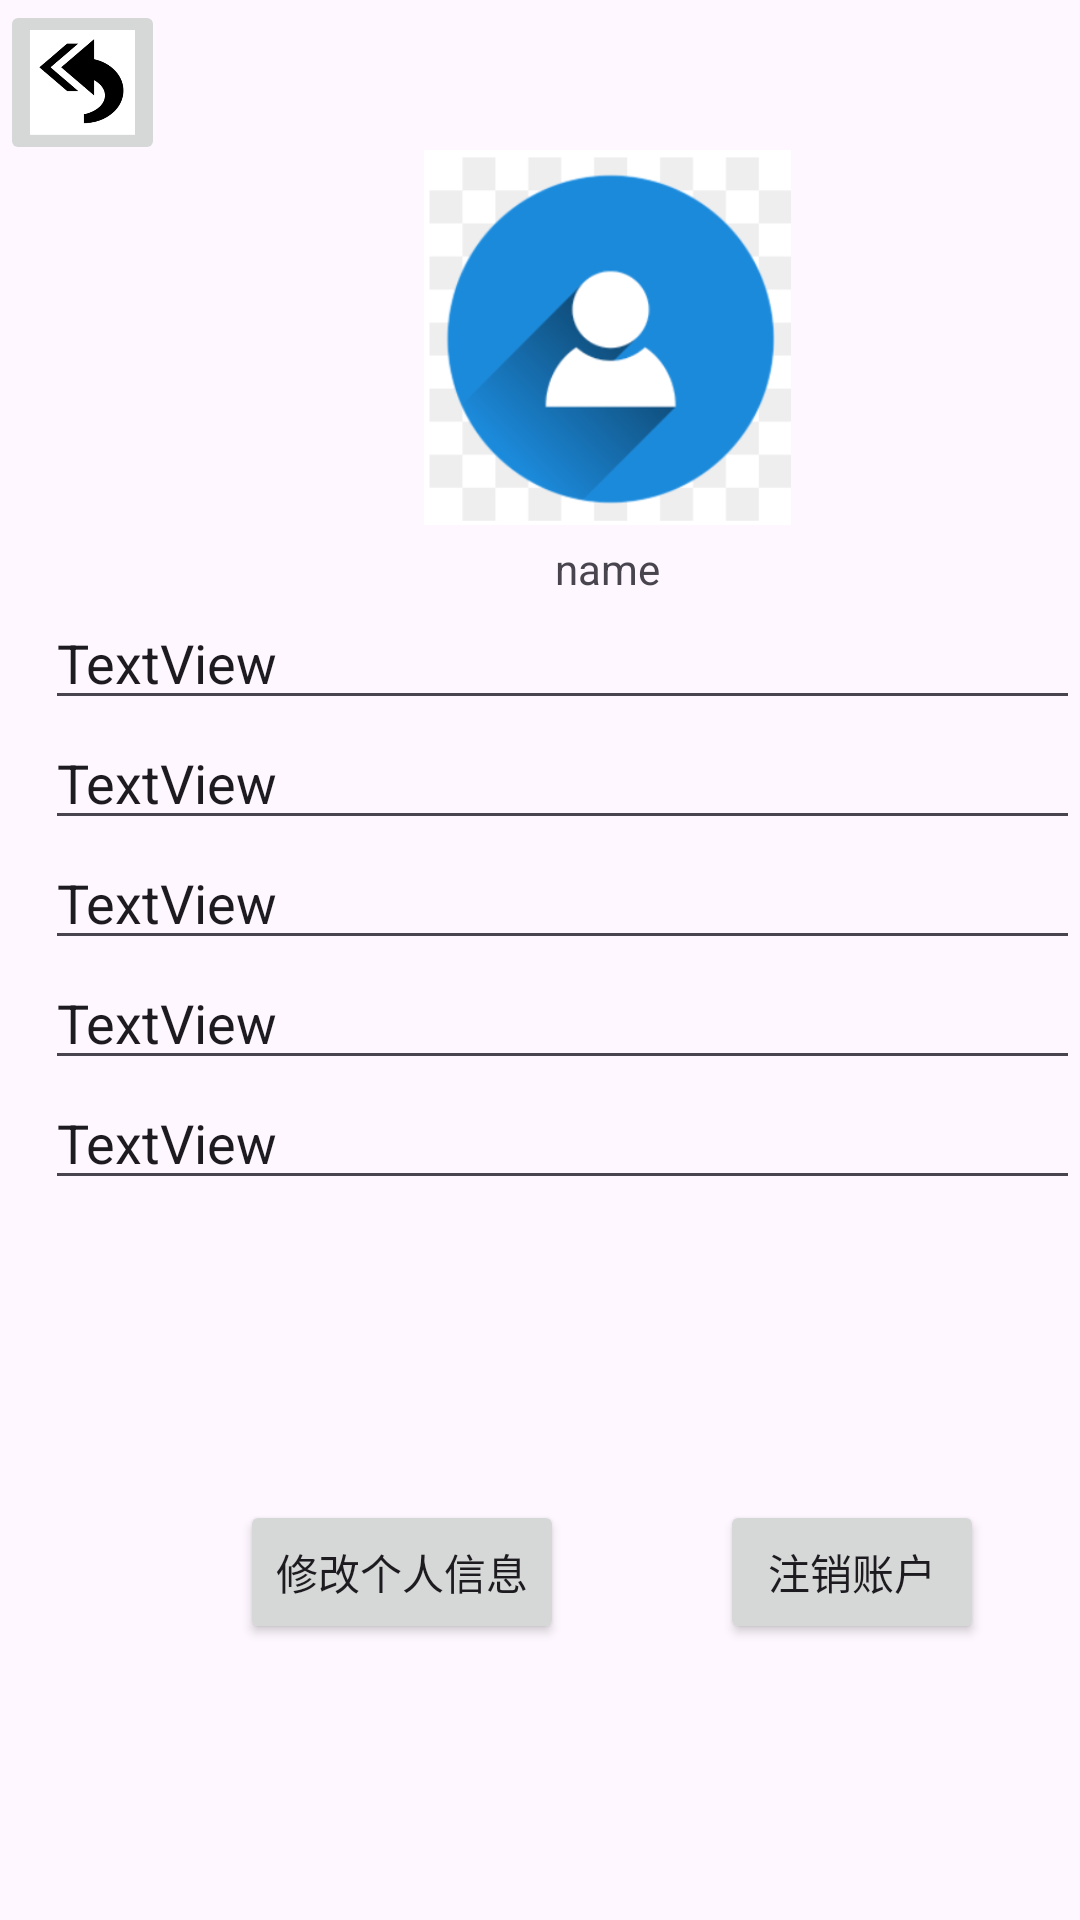

Point at icon controls on the screen. Image size 1080px×1920px, points as [x,y].
back: [82,82]
user: [610,339]
